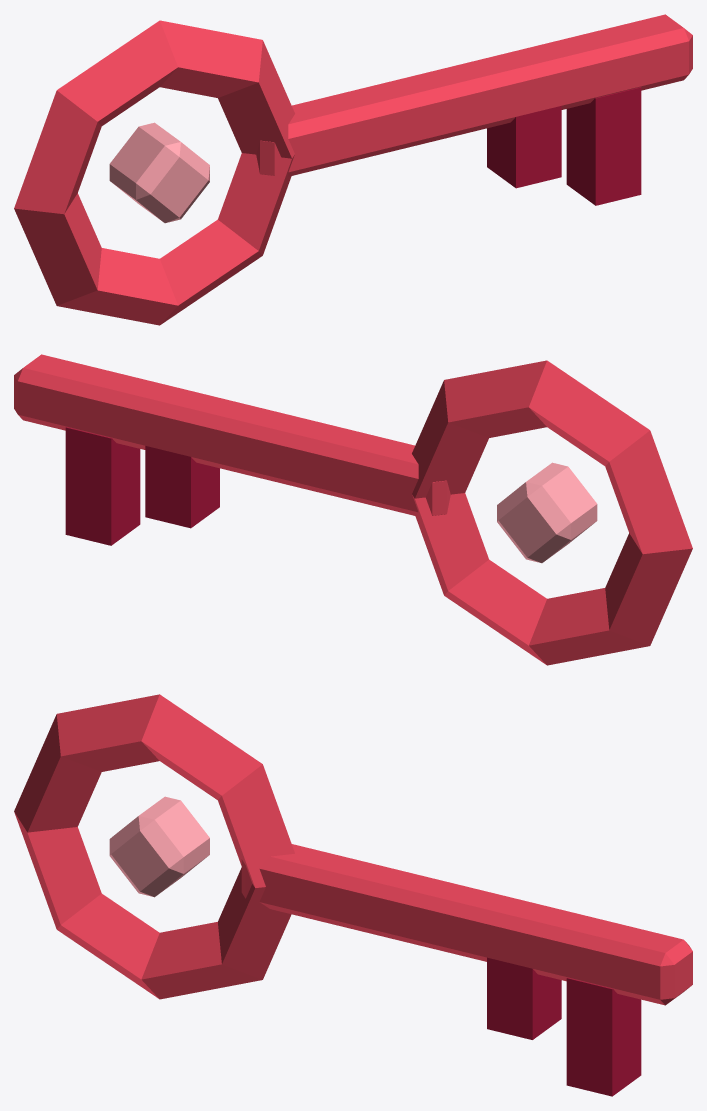
File: RubyKey.fbx
3 views of the same model, one above another, from view 1: azimuth 30°, elevation 25°; view 2: azimuth 150°, elevation 25°; view 3: azimuth 330°, elevation 25° (orthographic).
Visible parts, largest first — view 1: RubyKey; view 2: RubyKey; view 3: RubyKey.
Part boxes in pixels (box(x1,y1,x2,y2)): RubyKey: box(14, 14, 692, 325); RubyKey: box(14, 354, 692, 665); RubyKey: box(14, 694, 692, 1096).
Size of the model in its own units: 2.94 by 1.28 by 0.3.
Materials: 1 (1 with a texture image).
